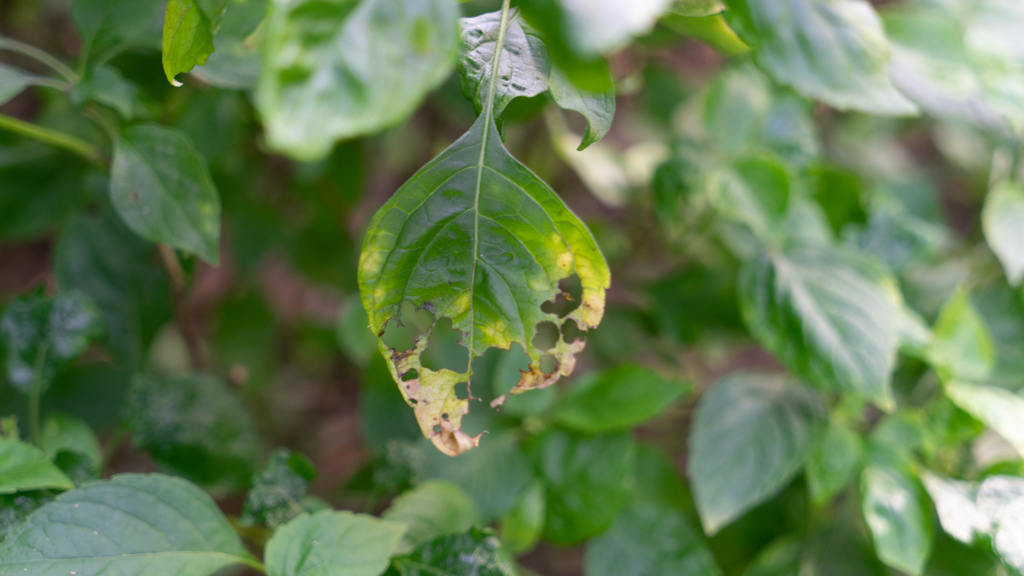Pepper yellow leaf: (358, 176, 615, 452)
